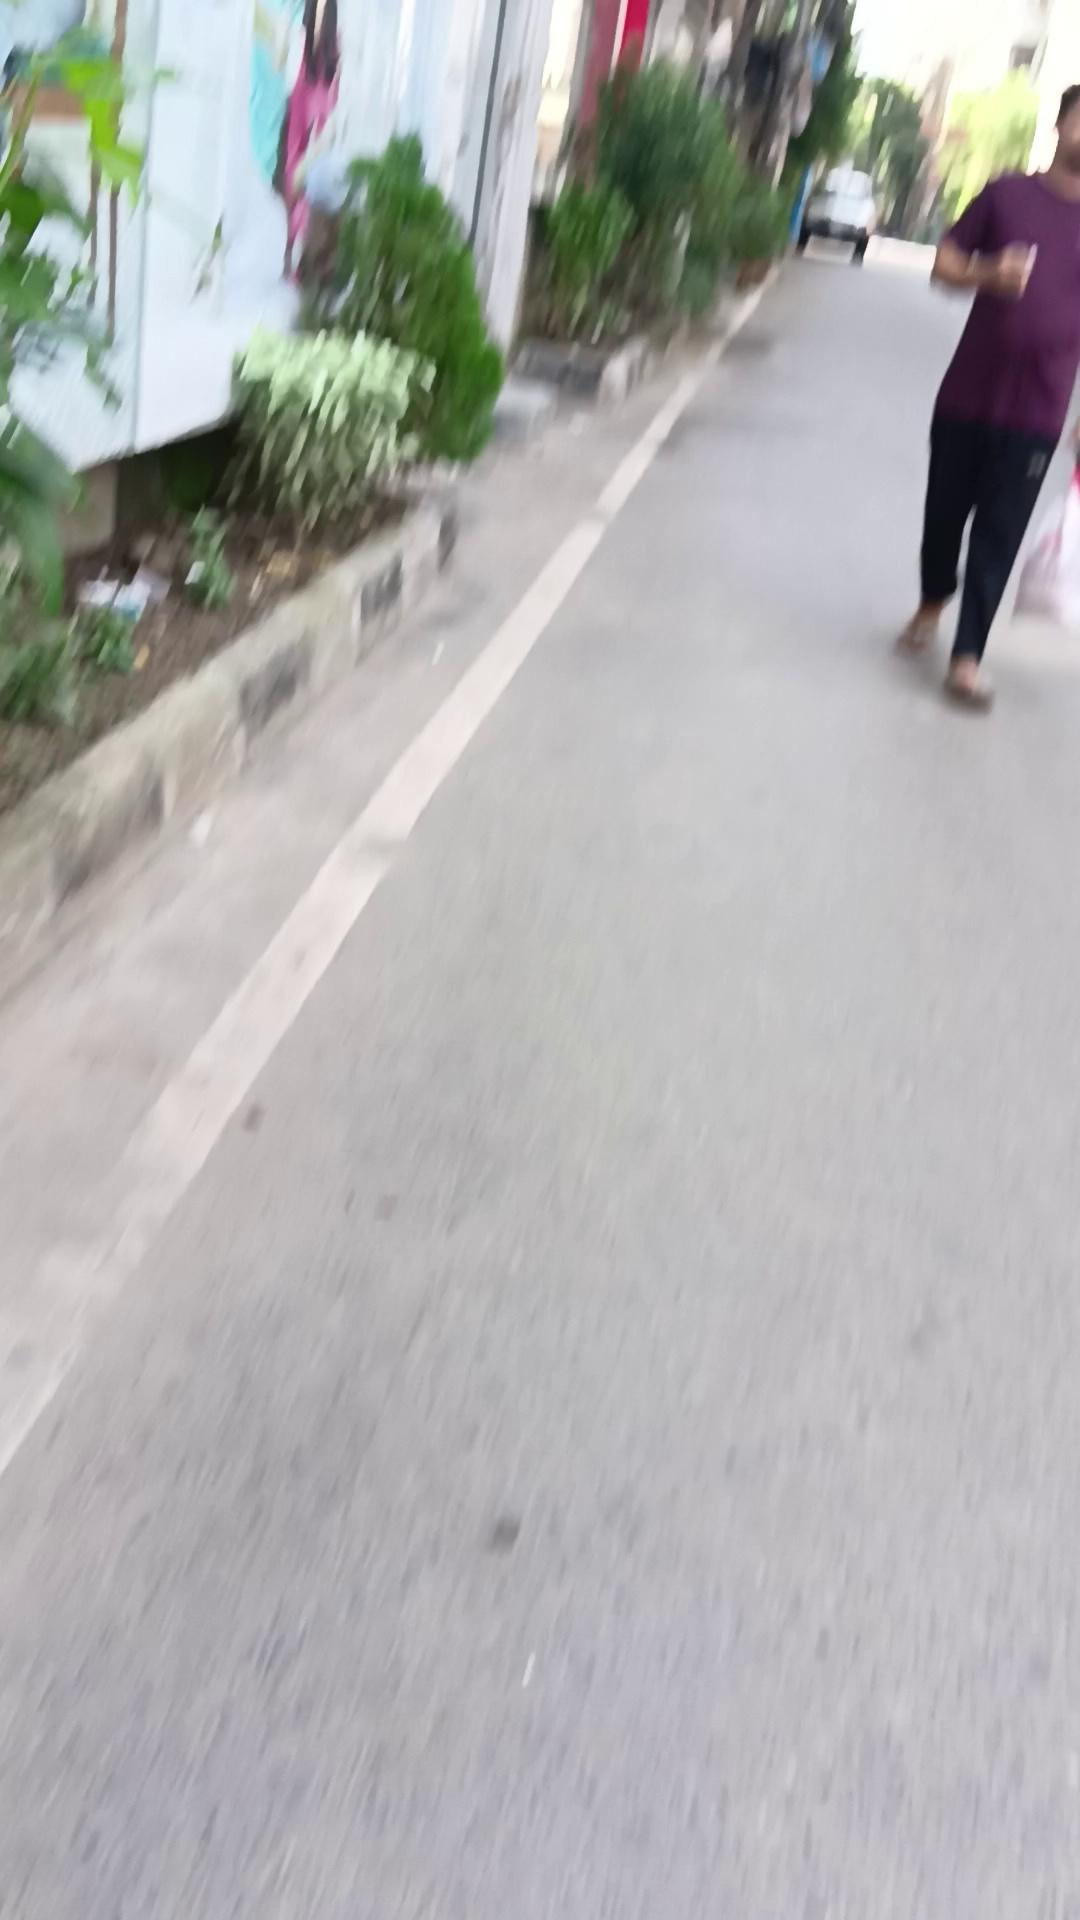Bollard: (795, 165, 876, 255)
Broken-road: (3, 458, 481, 1011)
Curb: (891, 83, 1079, 707)
Obstacle: (3, 0, 553, 585)
